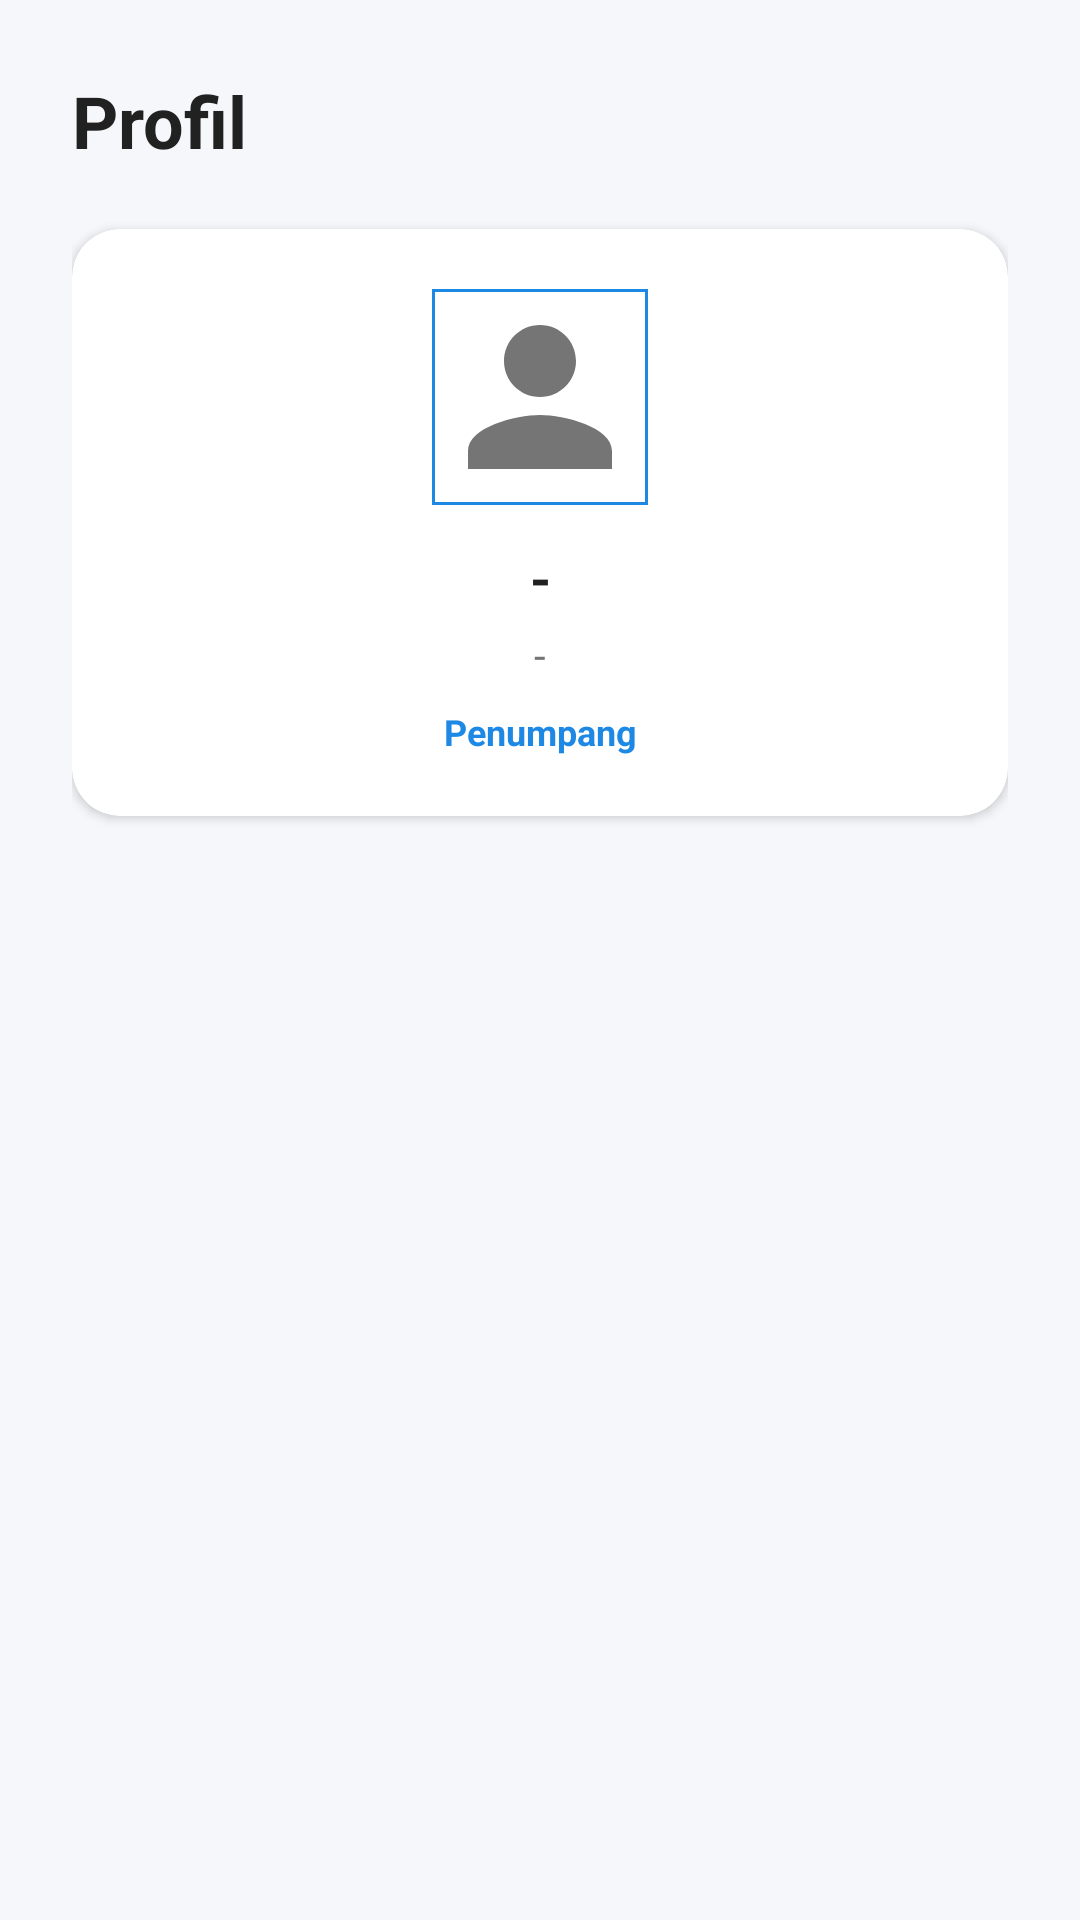

Icons on this 1080px×1920px Android screen, each with its box as (x1, y1, x2, y2):
Foto Profil: (432, 289, 648, 505)
